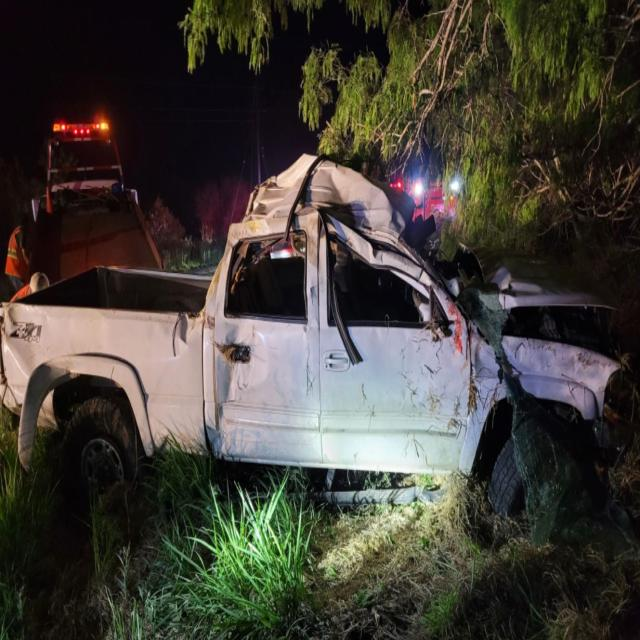Accident: (6, 149, 640, 549)
